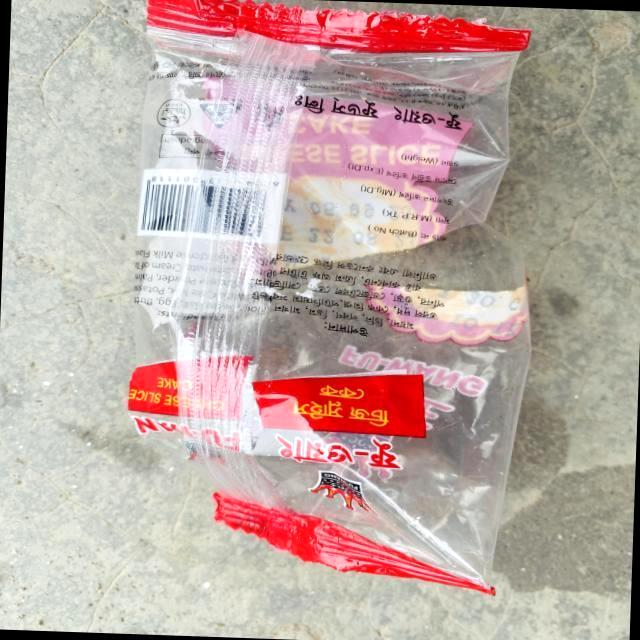packet: (111, 0, 535, 592)
